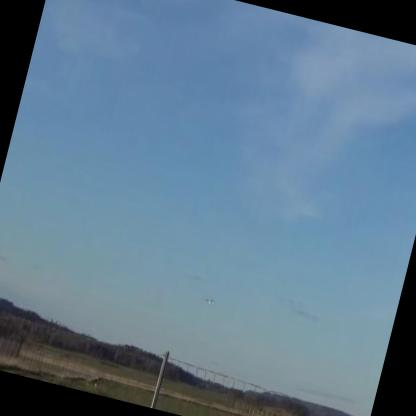plane: (200, 293, 222, 311)
